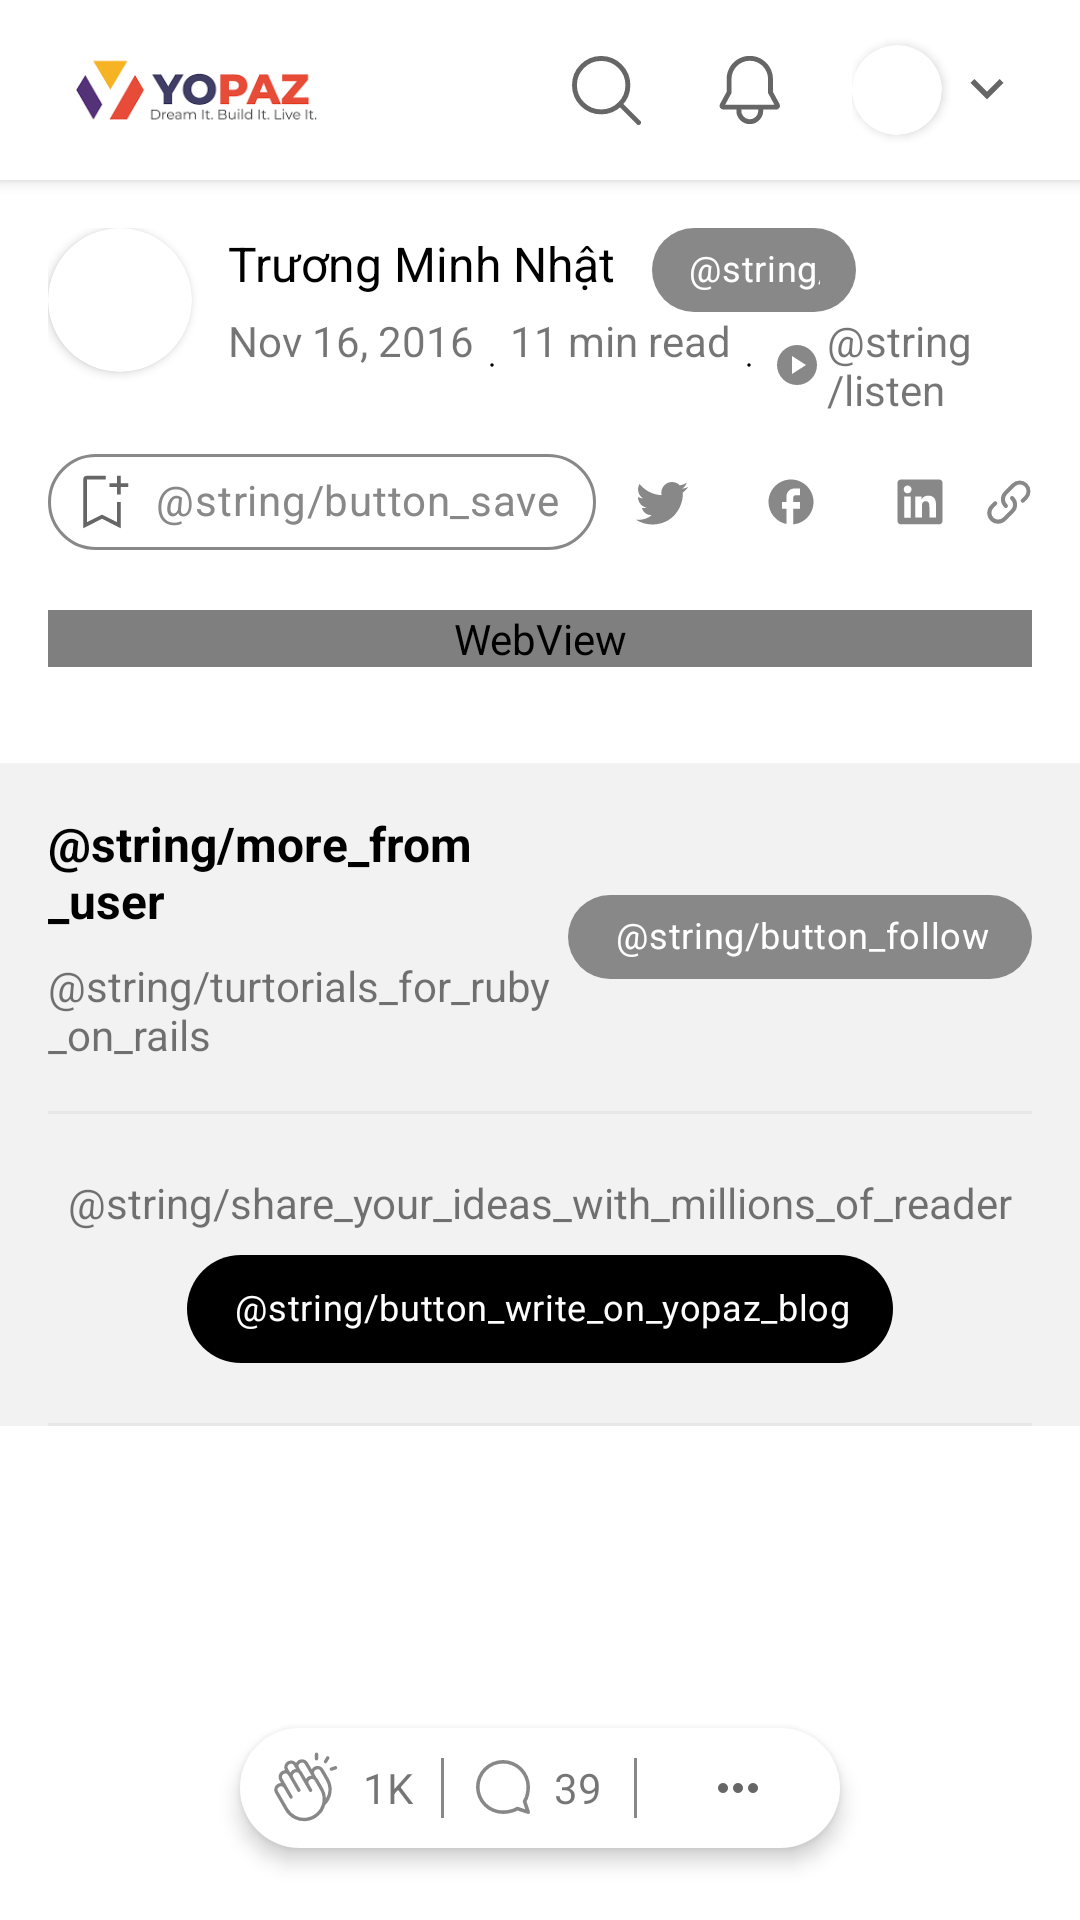

Icon click points for this 1080w x 1920h phone screenshot, format (x=x, y=y):
arrow down: (x=987, y=89)
comment: (x=503, y=1787)
hand clap: (x=305, y=1787)
link: (x=1009, y=502)
notification: (x=749, y=90)
options: (x=738, y=1788)
play: (x=797, y=365)
search: (x=606, y=90)
